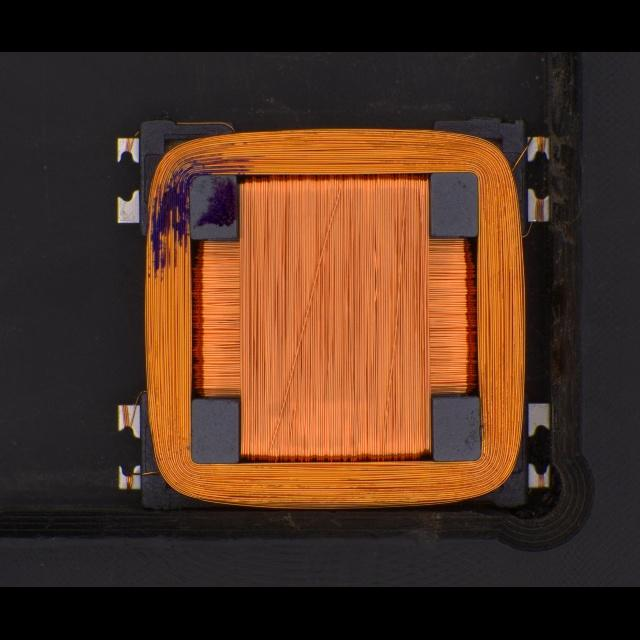Winding_Z: (137, 122, 529, 511)
